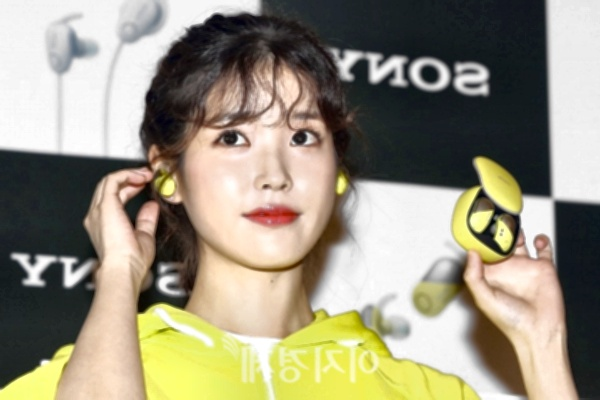earphone: (149, 144, 182, 203)
